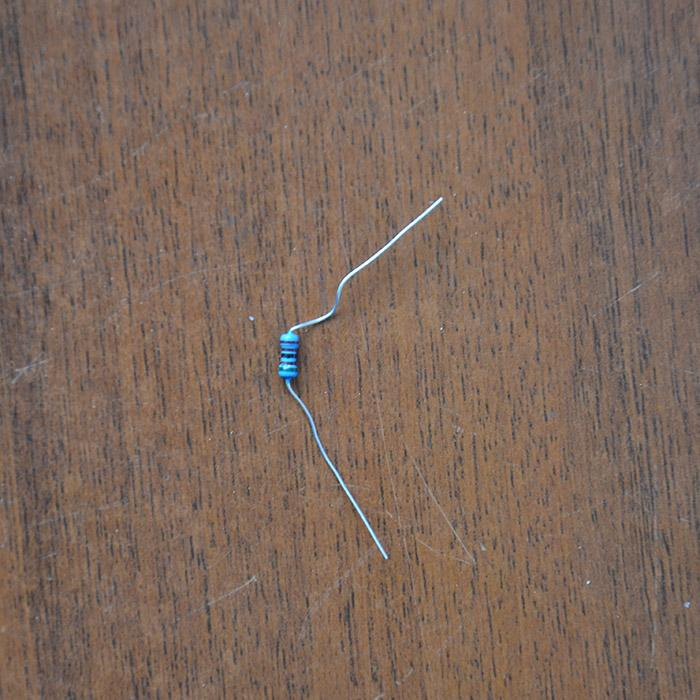resistor: (277, 330, 300, 380)
